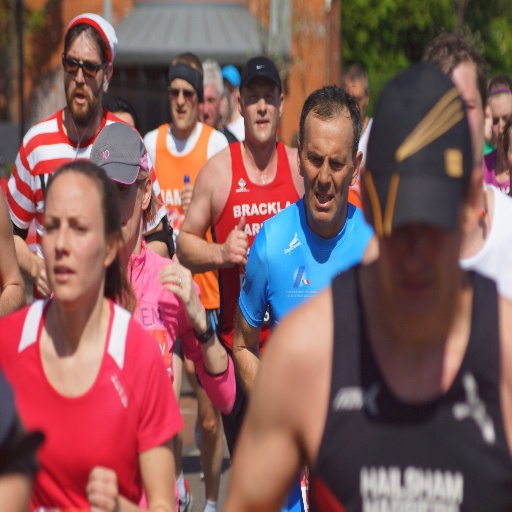hand: (155, 250, 202, 325), (213, 223, 257, 269), (85, 462, 121, 511), (33, 256, 52, 297), (177, 184, 192, 215)
